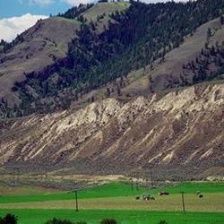neutral: (1, 2, 224, 222)
